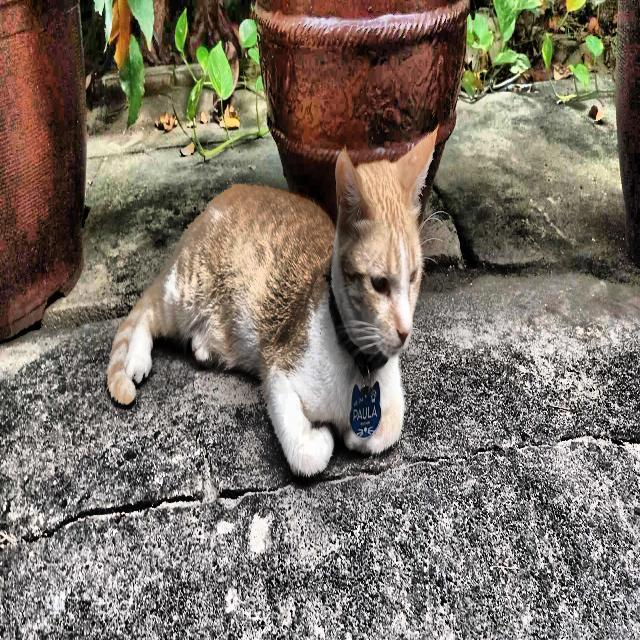Healthy skin: (336, 155, 428, 260), (222, 194, 280, 318)
